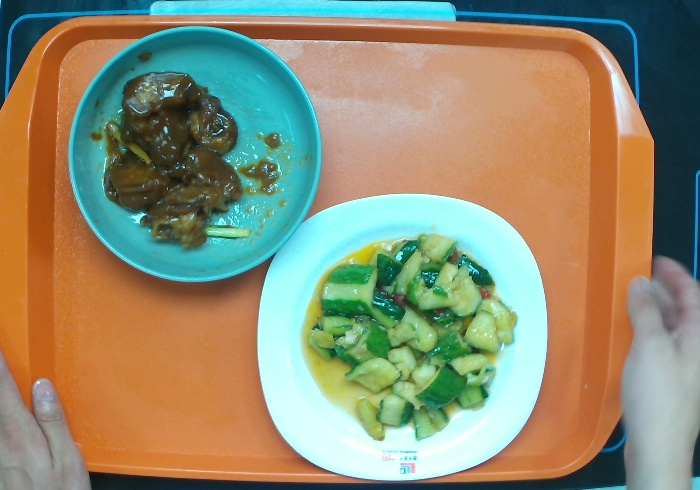ZNLD-Qing_Hua_Yuan_Wan: (64, 24, 323, 285)
ZNLD-Yuan_Jiao_Pan: (254, 190, 549, 482)
